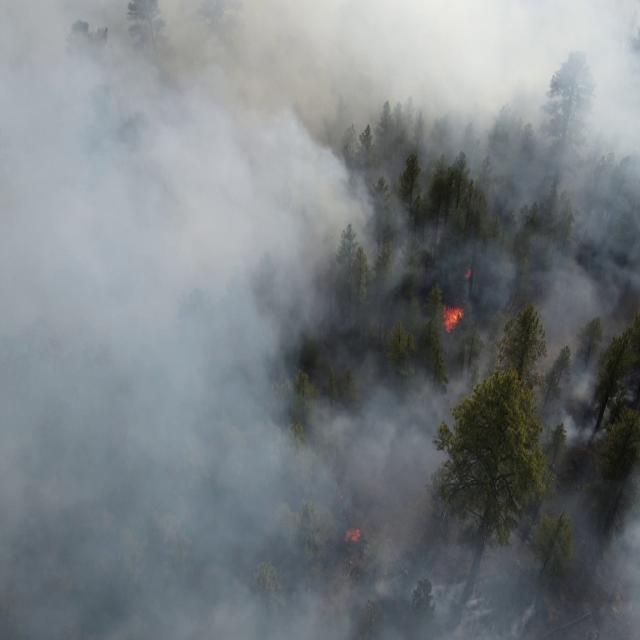fire: (443, 306, 465, 333), (344, 527, 364, 543), (463, 268, 473, 282)
smoke: (0, 0, 446, 640), (446, 0, 640, 314), (538, 312, 640, 640), (446, 511, 536, 640), (446, 316, 497, 373), (446, 373, 471, 402)
